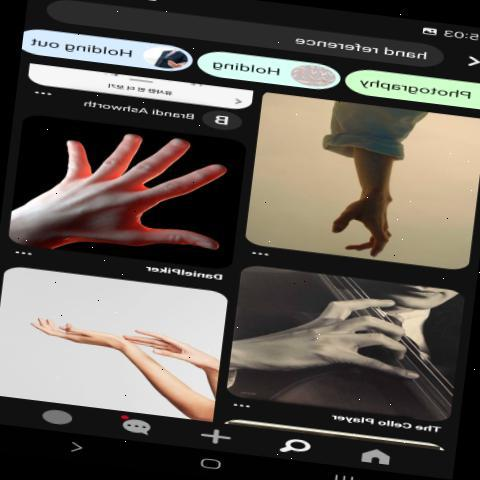Hands: (24, 138, 232, 255), (229, 285, 436, 384), (294, 155, 440, 256), (124, 318, 216, 372), (18, 313, 138, 352)
